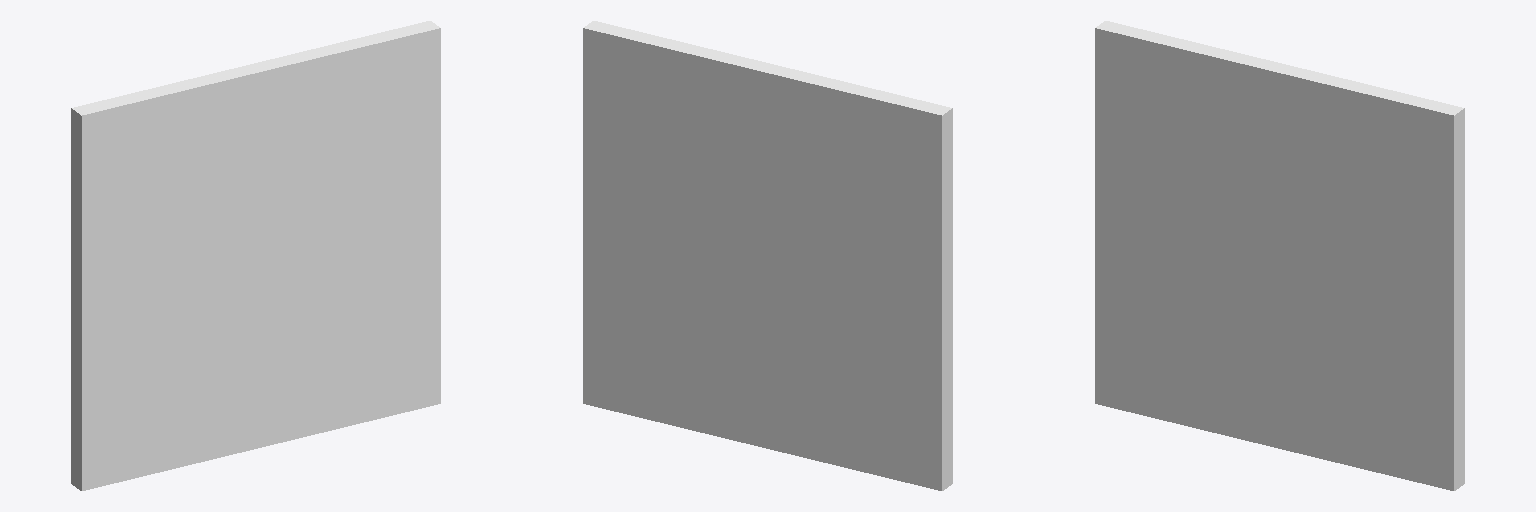
robot.urdf — panda:
<?xml version="1.0" ?>
<!-- =================================================================================== -->
<!-- |    This document was autogenerated by xacro from panda_arm_hand.urdf.xacro      | -->
<!-- |    EDITING THIS FILE BY HAND IS NOT RECOMMENDED                                 | -->
<!-- =================================================================================== -->
<robot name="panda" xmlns:xacro="http://www.ros.org/wiki/xacro">
  <link name="panda_link0">
    <visual>
      <geometry>
        <mesh filename="meshes/visual/link0.obj"/>
      </geometry>
      <material name="panda_white"/>
    </visual>
    <collision>
      <geometry>
        <mesh filename="meshes/collision/link0.obj"/>
      </geometry>
      <material name="panda_white"/>
    </collision>
  </link>
  <link name="panda_link1">
    <visual>
      <geometry>
        <mesh filename="meshes/visual/link1.obj"/>
      </geometry>
      <material name="panda_white"/>
    </visual>
    <collision>
      <geometry>
        <mesh filename="meshes/collision/link1.obj"/>
      </geometry>
      <material name="panda_white"/>
    </collision>
  </link>
  <joint name="panda_joint1" type="revolute">
    <safety_controller k_position="100.0" k_velocity="40.0" soft_lower_limit="-2.8973" soft_upper_limit="2.8973"/>
    <origin rpy="0 0 0" xyz="0 0 0.333"/>
    <parent link="panda_link0"/>
    <child link="panda_link1"/>
    <axis xyz="0 0 1"/>
    <limit effort="87" lower="-2.9671" upper="2.9671" velocity="2.1750"/>
  </joint>
  <link name="panda_link2">
    <visual>
      <geometry>
        <mesh filename="meshes/visual/link2.obj"/>
      </geometry>
      <material name="panda_white"/>
    </visual>
    <collision>
      <geometry>
        <mesh filename="meshes/collision/link2.obj"/>
      </geometry>
      <material name="panda_white"/>
    </collision>
  </link>
  <joint name="panda_joint2" type="revolute">
    <safety_controller k_position="100.0" k_velocity="40.0" soft_lower_limit="-1.7628" soft_upper_limit="1.7628"/>
    <origin rpy="-1.57079632679 0 0" xyz="0 0 0"/>
    <parent link="panda_link1"/>
    <child link="panda_link2"/>
    <axis xyz="0 0 1"/>
    <limit effort="87" lower="-1.8326" upper="1.8326" velocity="2.1750"/>
  </joint>
  <link name="panda_link3">
    <visual>
      <geometry>
        <mesh filename="meshes/visual/link3.obj"/>
      </geometry>
      <material name="panda_white"/>
    </visual>
    <collision>
      <geometry>
        <mesh filename="meshes/collision/link3.obj"/>
      </geometry>
      <material name="panda_white"/>
    </collision>
  </link>
  <joint name="panda_joint3" type="revolute">
    <safety_controller k_position="100.0" k_velocity="40.0" soft_lower_limit="-2.8973" soft_upper_limit="2.8973"/>
    <origin rpy="1.57079632679 0 0" xyz="0 -0.316 0"/>
    <parent link="panda_link2"/>
    <child link="panda_link3"/>
    <axis xyz="0 0 1"/>
    <limit effort="87" lower="-2.9671" upper="2.9671" velocity="2.1750"/>
  </joint>
  <link name="panda_link4">
    <visual>
      <geometry>
        <mesh filename="meshes/visual/link4.obj"/>
      </geometry>
      <material name="panda_white"/>
    </visual>
    <collision>
      <geometry>
        <mesh filename="meshes/collision/link4.obj"/>
      </geometry>
      <material name="panda_white"/>
    </collision>
  </link>
  <joint name="panda_joint4" type="revolute">
    <safety_controller k_position="100.0" k_velocity="40.0" soft_lower_limit="-3.0718" soft_upper_limit="-0.0698"/>
    <origin rpy="1.57079632679 0 0" xyz="0.0825 0 0"/>
    <parent link="panda_link3"/>
    <child link="panda_link4"/>
    <axis xyz="0 0 1"/>
    <limit effort="87" lower="-3.1416" upper="0.0" velocity="2.1750"/>
  </joint>
  <link name="panda_link5">
    <visual>
      <geometry>
        <mesh filename="meshes/visual/link5.obj"/>
      </geometry>
      <material name="panda_white"/>
    </visual>
    <collision>
      <geometry>
        <mesh filename="meshes/collision/link5.obj"/>
      </geometry>
      <material name="panda_white"/>
    </collision>
  </link>
  <joint name="panda_joint5" type="revolute">
    <safety_controller k_position="100.0" k_velocity="40.0" soft_lower_limit="-2.8973" soft_upper_limit="2.8973"/>
    <origin rpy="-1.57079632679 0 0" xyz="-0.0825 0.384 0"/>
    <parent link="panda_link4"/>
    <child link="panda_link5"/>
    <axis xyz="0 0 1"/>
    <limit effort="12" lower="-2.9671" upper="2.9671" velocity="2.6100"/>
  </joint>
  <link name="panda_link6">
    <visual>
      <geometry>
        <mesh filename="meshes/visual/link6.obj"/>
      </geometry>
      <material name="panda_white"/>
    </visual>
    <collision>
      <geometry>
        <mesh filename="meshes/collision/link6.obj"/>
      </geometry>
      <material name="panda_white"/>
    </collision>
  </link>
  <joint name="panda_joint6" type="revolute">
    <safety_controller k_position="100.0" k_velocity="40.0" soft_lower_limit="-0.0175" soft_upper_limit="3.7525"/>
    <origin rpy="1.57079632679 0 0" xyz="0 0 0"/>
    <parent link="panda_link5"/>
    <child link="panda_link6"/>
    <axis xyz="0 0 1"/>
    <limit effort="12" lower="-0.0873" upper="3.8223" velocity="2.6100"/>
  </joint>
  <link name="panda_link7">
    <visual>
      <geometry>
        <mesh filename="meshes/visual/link7.obj"/>
      </geometry>
      <material name="panda_white"/>
    </visual>
    <collision>
      <geometry>
        <mesh filename="meshes/collision/link7.obj"/>
      </geometry>
      <material name="panda_white"/>
    </collision>
  </link>
  <joint name="panda_joint7" type="revolute">
    <safety_controller k_position="100.0" k_velocity="40.0" soft_lower_limit="-2.8973" soft_upper_limit="2.8973"/>
    <origin rpy="1.57079632679 0 0" xyz="0.088 0 0"/>
    <parent link="panda_link6"/>
    <child link="panda_link7"/>
    <axis xyz="0 0 1"/>
    <limit effort="12" lower="-2.9671" upper="2.9671" velocity="2.6100"/>
  </joint>
  <link name="panda_link8"/>
  <joint name="panda_joint8" type="fixed">
    <origin rpy="0 0 0" xyz="0 0 0.107"/>
    <parent link="panda_link7"/>
    <child link="panda_link8"/>
    <axis xyz="0 0 0"/>
  </joint>
  <joint name="panda_hand_joint" type="fixed">
    <parent link="panda_link8"/>
    <child link="panda_hand"/>
    <origin rpy="0 0 0" xyz="0 0 0"/>
  </joint>
  <link name="panda_hand">
    <visual>
      <geometry>
        <mesh filename="meshes/visual/hand.obj"/>
      </geometry>
      <material name="panda_white"/>
    </visual>
    <collision>
      <geometry>
        <mesh filename="meshes/collision/hand.obj"/>
      </geometry>
      <material name="panda_white"/>
    </collision>
  </link>

  <link name="panda_calibration">
    <visual>
      <geometry>
        <mesh filename="meshes/visual/calibration_panda.obj"/>
      </geometry>
      <material name="panda_white"/>
    </visual>
    <collision>
      <geometry>
        <mesh filename="meshes/visual/calibration_panda.obj"/>
      </geometry>
      <material name="panda_white"/>
    </collision>
  </link>
 
  
   <joint name="panda_calibration" type="fixed">
    <parent link="panda_hand"/>
    <child link="panda_calibration"/>
    <origin rpy="-1.57079632679 0 3.141592" xyz="0 -0.15 0"/>
  </joint>
  
  <material name="panda_white">
    <color rgba="1. 1. 1. 1."/>
  </material>
</robot>

--- Render facts (derived) ---
Views: 3 orthographic renders of the robot side by side, from view 1: azimuth 30°, elevation 25°; view 2: azimuth 150°, elevation 25°; view 3: azimuth 330°, elevation 25°.
Robot: panda — 11 links, 10 joints (7 revolute, 3 fixed); root link panda_link0; default pose: all joints at 0.
Links seen in each view (by area): view 1: panda_calibration; view 2: panda_calibration; view 3: panda_calibration.
Link boxes in pixels (box(x1,y1,x2,y2)): panda_calibration: box(71, 21, 440, 490); panda_calibration: box(583, 21, 952, 490); panda_calibration: box(1095, 21, 1464, 490).
Size in the robot's own frame: 0.2 by 0.013 by 0.2 metres.
1 mesh visuals loaded from 10 distinct referenced files (1 OBJ); not drawn: 9 (reference not matched to a file when rendering).